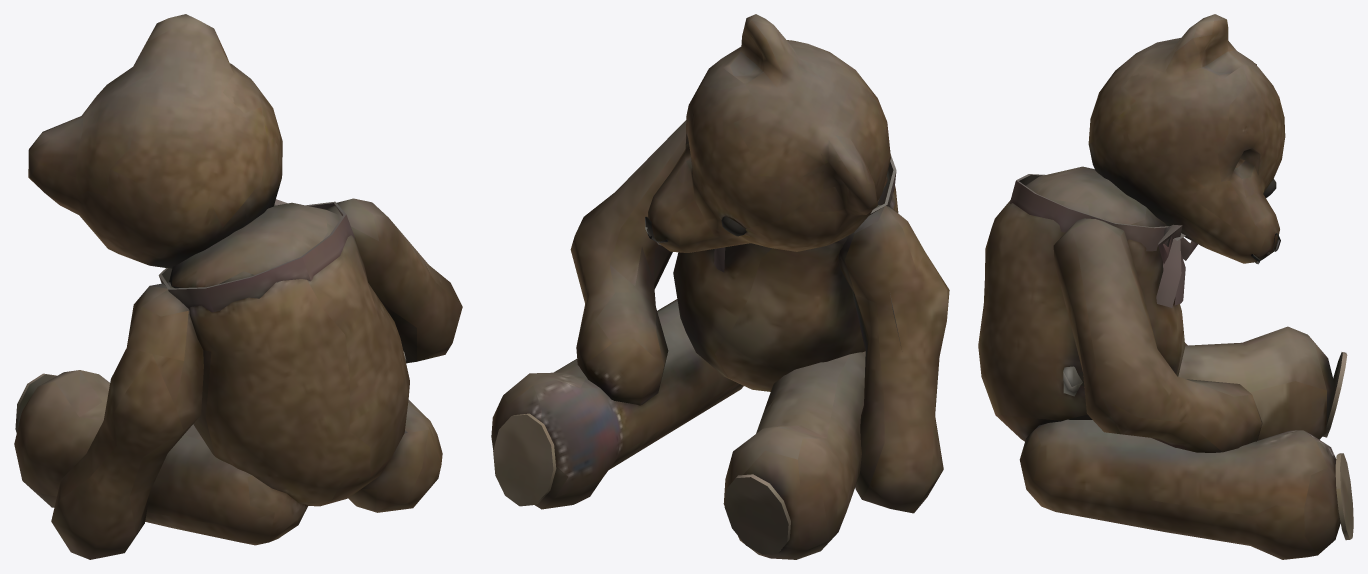
File: dressing_toys.glb
3 renders of one model, left to right at view 1: azimuth 30°, elevation 25°; view 2: azimuth 150°, elevation 25°; view 3: azimuth 270°, elevation 25°, orthographic. The views are drawn at different scales.
Visible parts, largest first — view 1: dressing_toys; view 2: dressing_toys; view 3: dressing_toys.
Boxes of the visible parts, <box> form: dressing_toys: <box>14,14,462,559</box>; dressing_toys: <box>491,14,949,559</box>; dressing_toys: <box>978,14,1353,559</box>.
Bounding box in the file's own units: 0.2679 × 0.3286 × 0.2454.
Materials: 1 (1 with a texture image).
